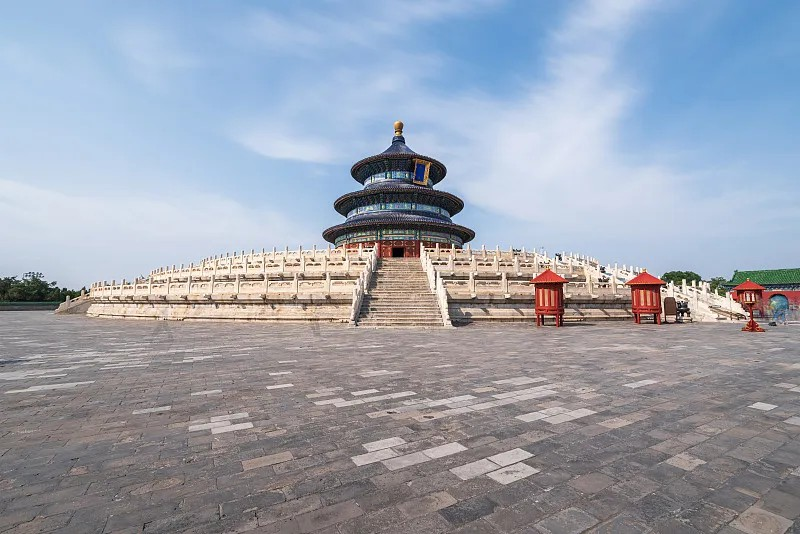Heaven: (321, 121, 476, 257)
